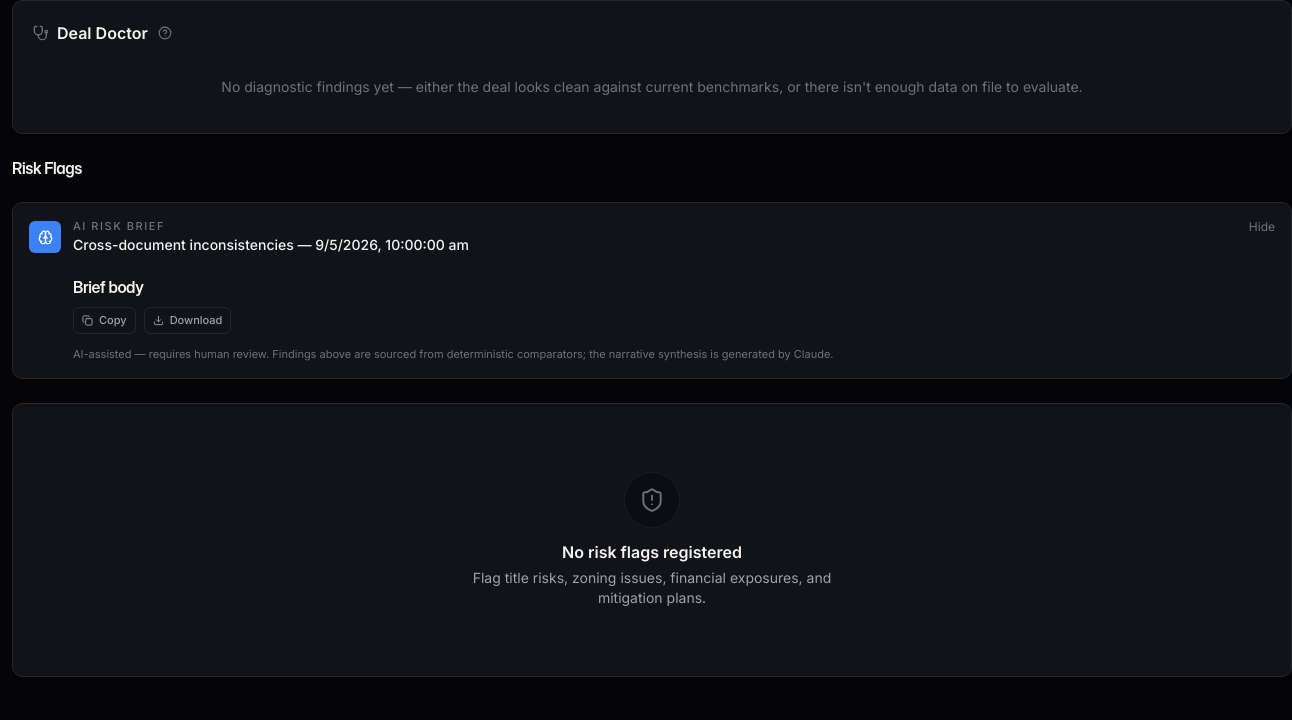
RiskTab — AI Risk Brief panel › hides the brief body when collapsed
Note: Click the header to collapse
Click the button that starts with "AI Risk Brief". click: (45, 237)
box: [29, 219, 1275, 255]
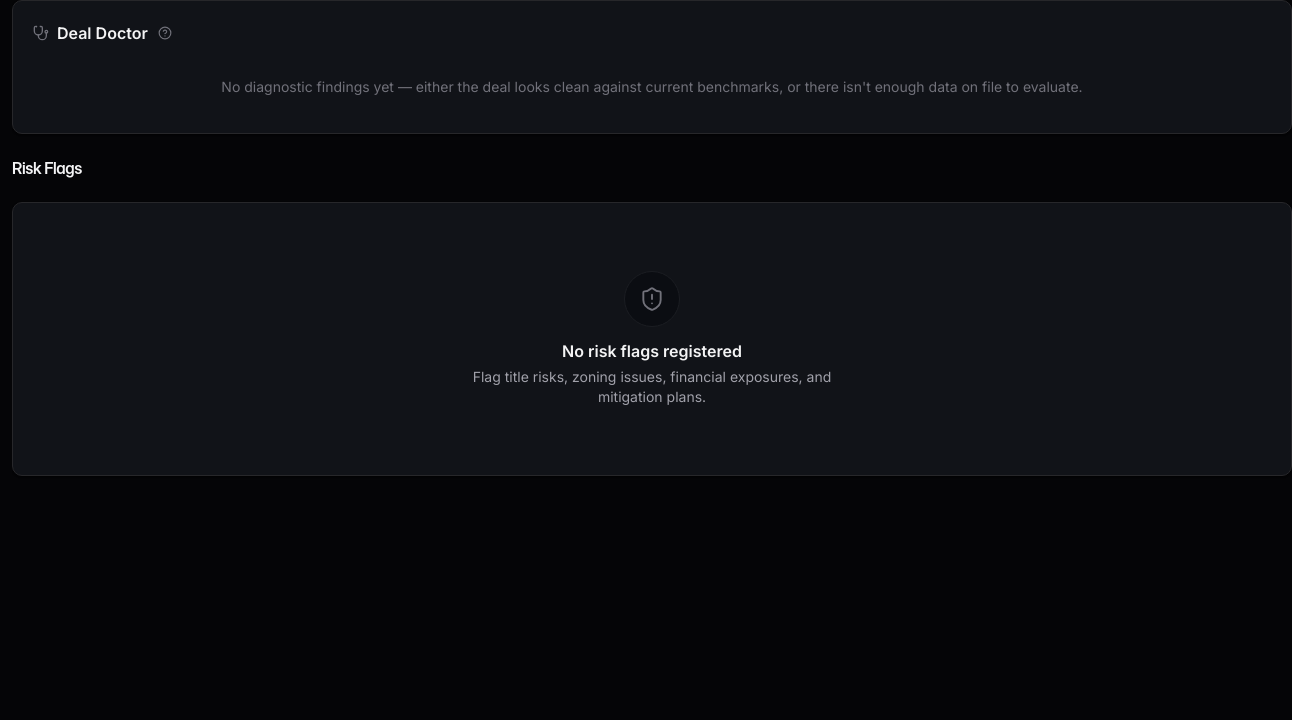
Result: the heading "Brief body" is gone
